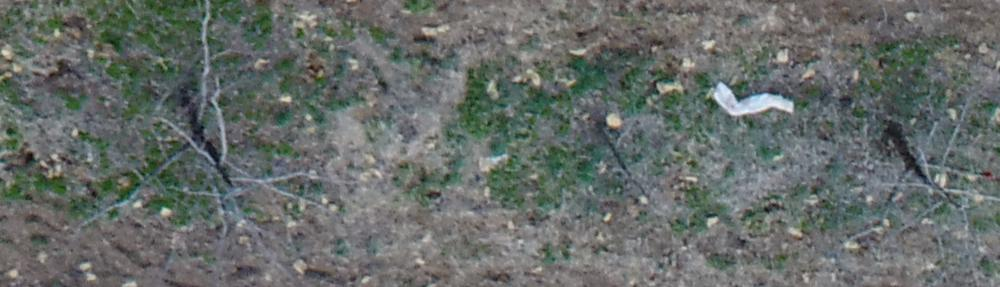apple: (65, 10, 333, 276), (835, 83, 990, 260)
